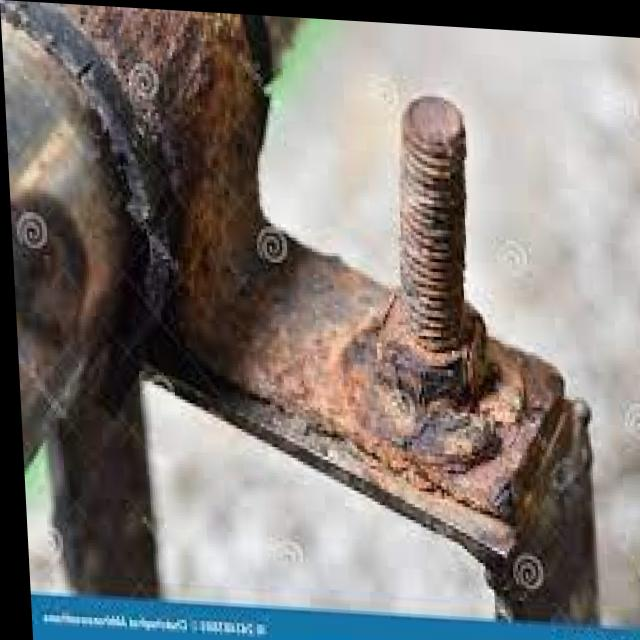Rusty bolt: (371, 284, 485, 395)
